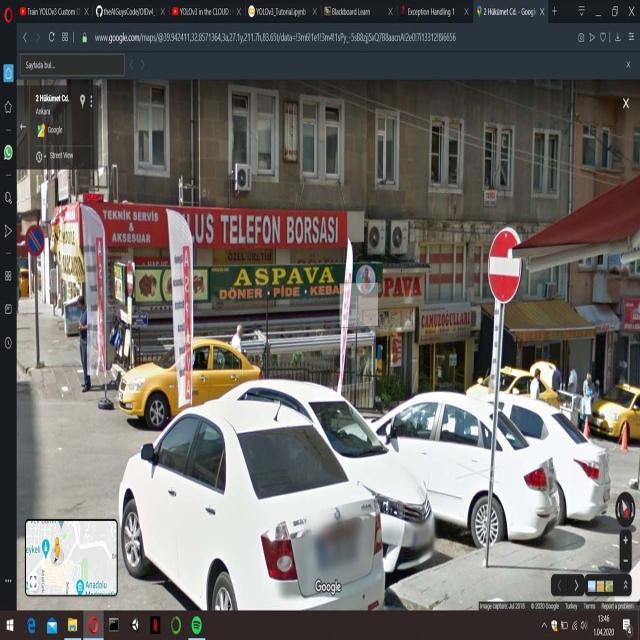girisyok: (487, 229, 521, 303)
parkyasak: (24, 223, 46, 261)
